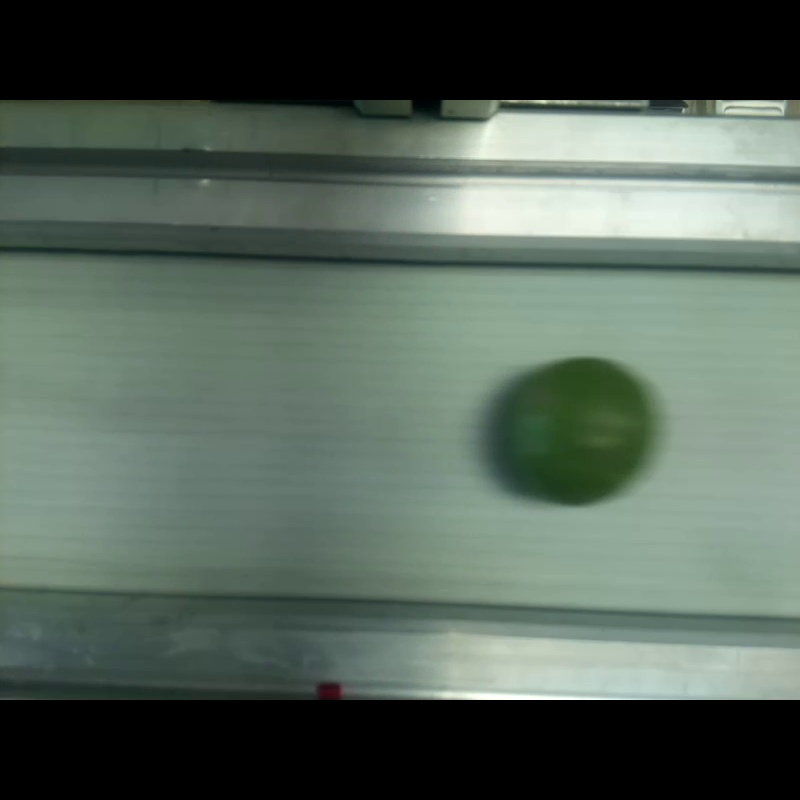lime: (505, 357, 647, 505)
